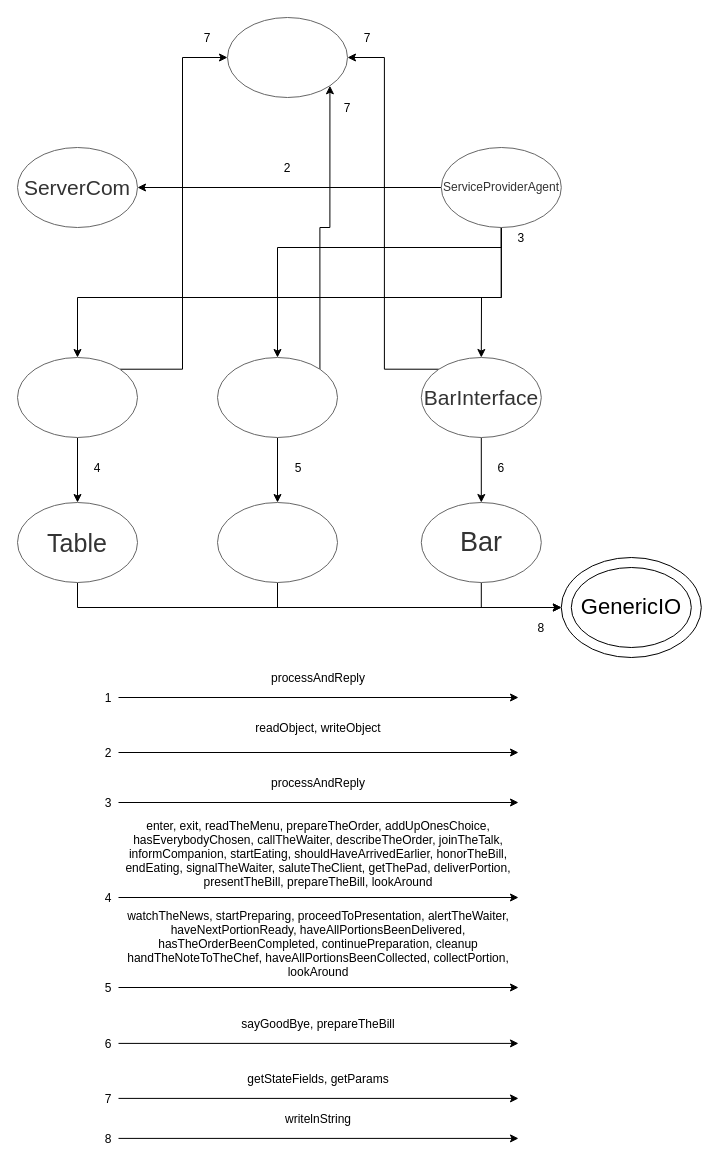
This 719x1166 diagram has some shape labels left out. The shapes that lost their labels are listed below. From the top down, each one's box as (x1, y1, x2, y2) in pixels, then its label:
(226, 16, 348, 98): Message
(16, 356, 138, 438): TableInterface
(216, 356, 338, 438): KitchenInterface
(216, 502, 338, 582): Kitchen
